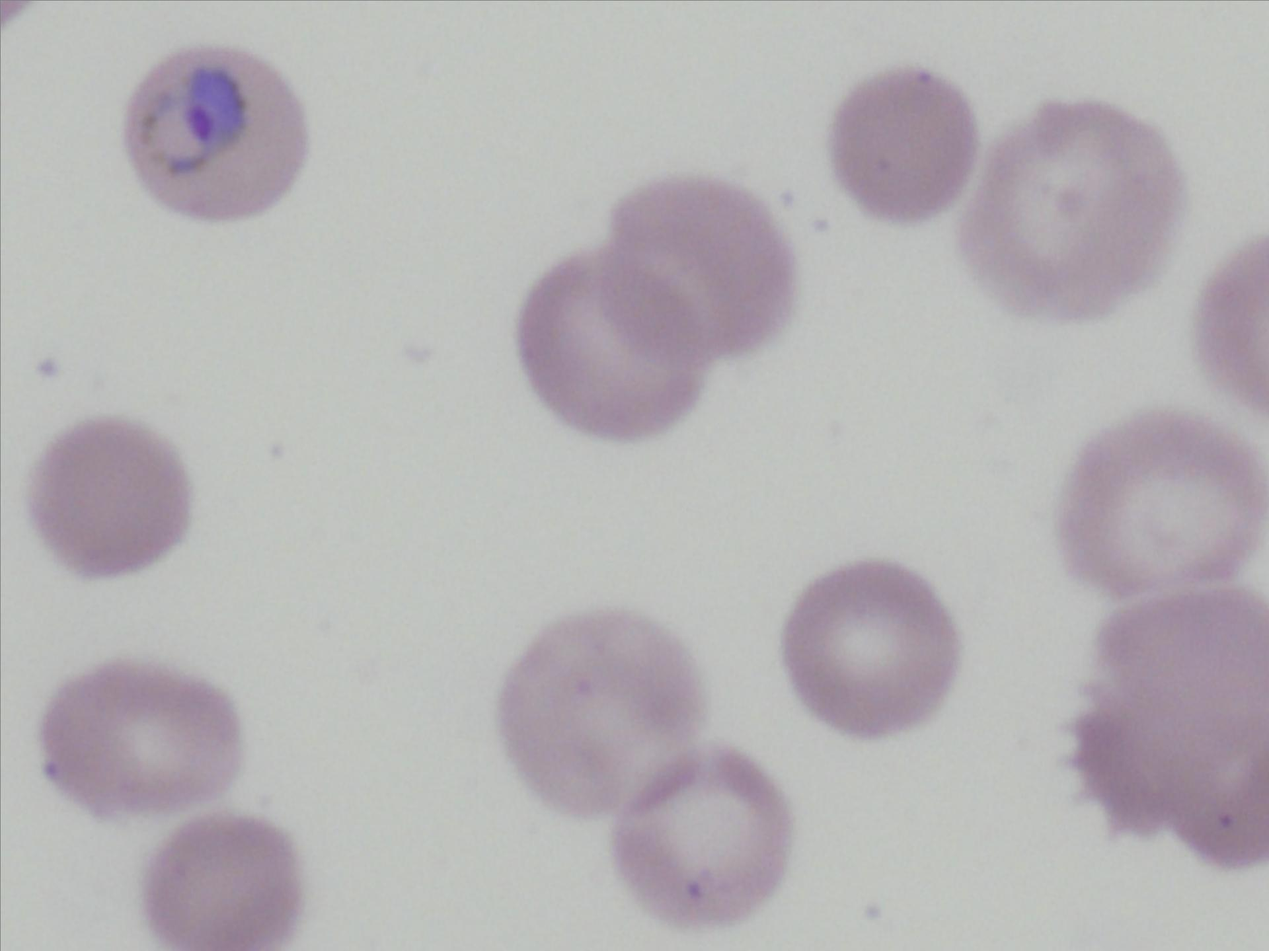Infected: (123, 45, 310, 217)
Uninfected: (1084, 589, 1269, 872), (961, 102, 1178, 323), (507, 609, 702, 815), (1063, 406, 1269, 593), (608, 173, 802, 365), (516, 250, 702, 437), (44, 662, 245, 822), (617, 750, 792, 928), (780, 560, 959, 733), (31, 415, 197, 580), (837, 67, 983, 221), (143, 816, 294, 951)
